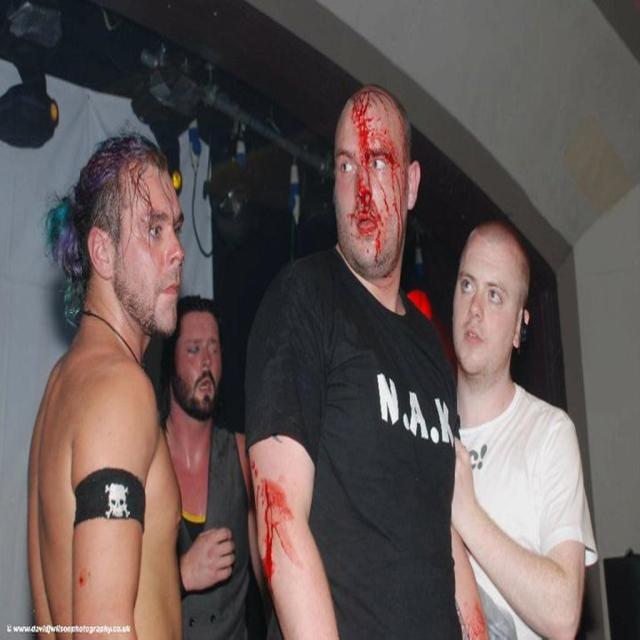Face: (114, 151, 196, 343), (340, 91, 420, 282), (448, 221, 537, 380), (174, 286, 225, 428)
